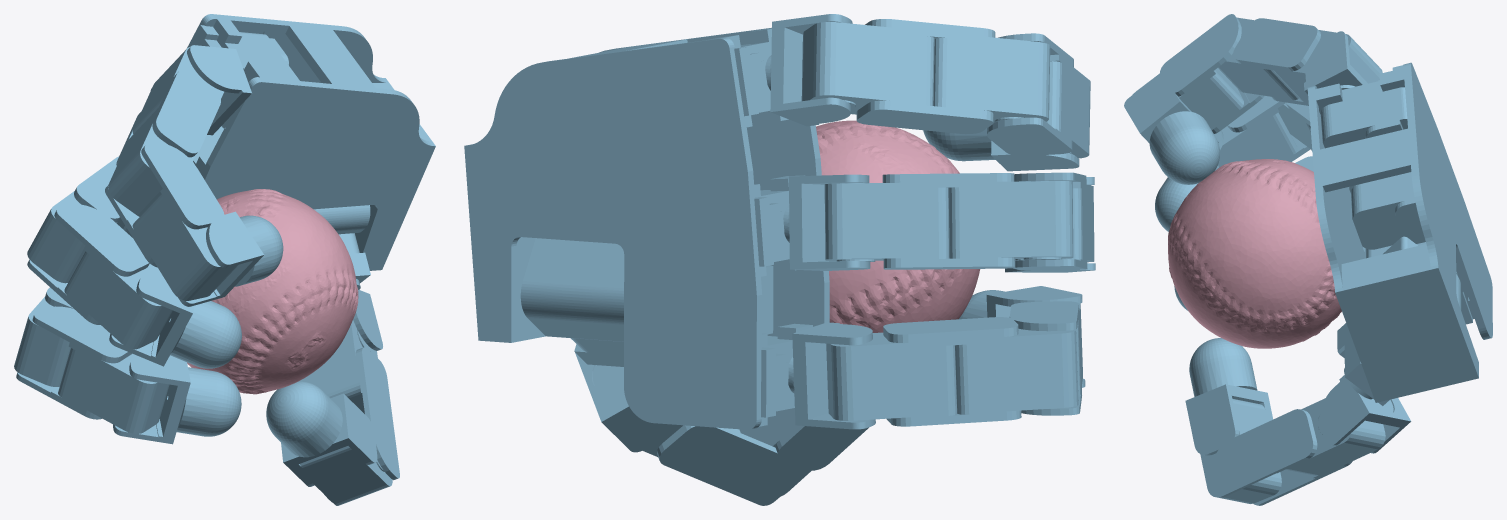
3 views of the same model, side by side, from view 1: azimuth 30°, elevation 25°; view 2: azimuth 150°, elevation 25°; view 3: azimuth 270°, elevation 25° (orthographic). The views are drawn at different scales.
Visible parts, largest first — view 1: world; view 2: world; view 3: world.
Part boxes in pixels (<box>): world: <box>14,14,435,505</box>; world: <box>464,14,1095,505</box>; world: <box>1124,14,1492,505</box>.
Size of the model in its own units: 0.1797 by 0.1793 by 0.1401.
